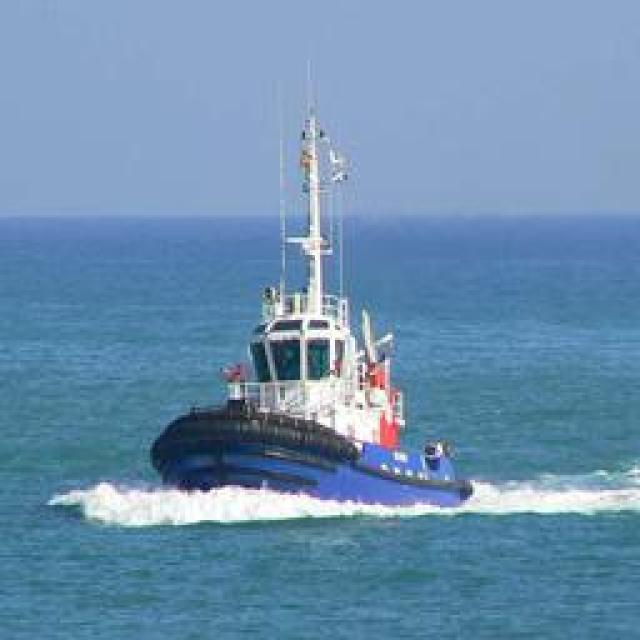ship: (145, 47, 465, 515)
